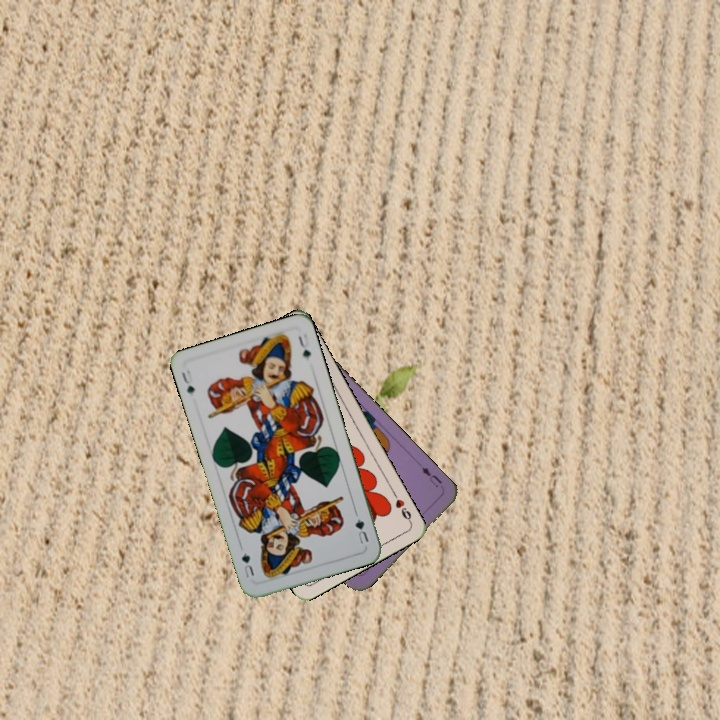EU: (417, 463, 445, 490)
GU: (351, 514, 371, 547), (178, 365, 197, 397)
H9: (389, 488, 414, 525)
